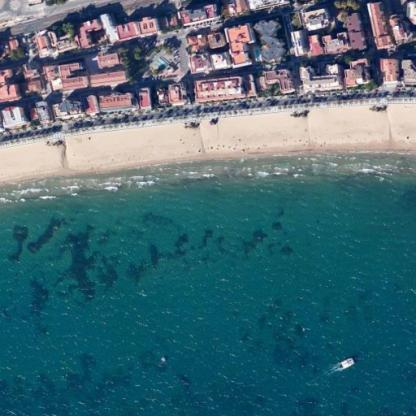ship: (332, 355, 356, 371)
